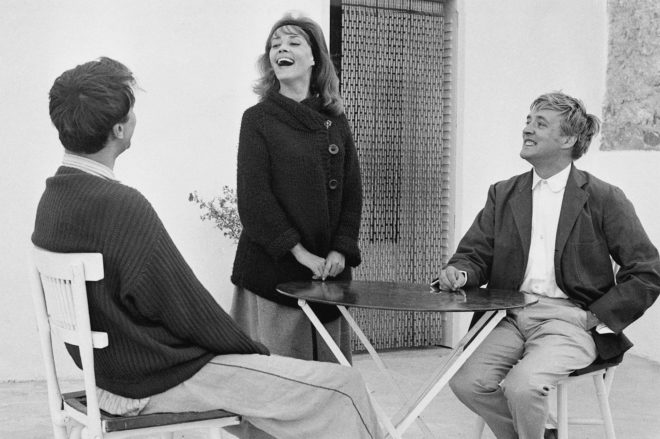person: (35, 56, 207, 334), (446, 71, 659, 289), (231, 11, 356, 209)
